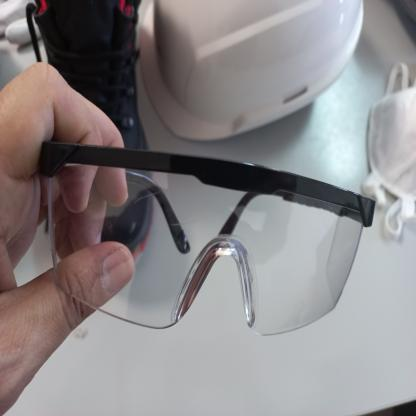goggles: (37, 125, 374, 344)
